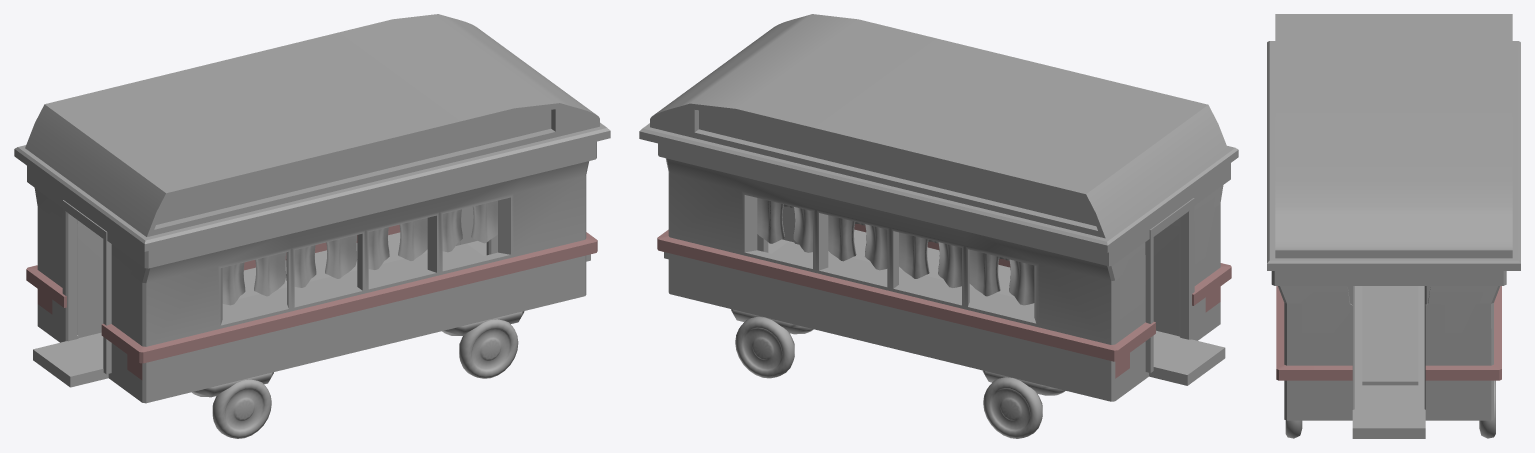
File: SM_Train_Car.fbx
3 renders of one model, left to right at view 1: azimuth 30°, elevation 25°; view 2: azimuth 150°, elevation 25°; view 3: azimuth 270°, elevation 25°, orthographic. The views are drawn at different scales.
Visible parts, largest first — view 1: SM_Train_Roof, SM_Train_Main, SM_Curtain, SM_Wheels, SM_Frames, SM_Carpet; view 2: SM_Train_Roof, SM_Train_Main, SM_Curtain, SM_Wheels, SM_Frames, SM_Carpet; view 3: SM_Train_Roof, SM_Train_Main, SM_Carpet, SM_Frames, SM_Wheels.
Part boxes in pixels (left/top/right/bottom): SM_Train_Roof: left=14, top=14, right=610, bottom=251; SM_Train_Main: left=26, top=141, right=597, bottom=403; SM_Curtain: left=222, top=200, right=497, bottom=305; SM_Wheels: left=192, top=311, right=524, bottom=438; SM_Frames: left=62, top=200, right=497, bottom=374; SM_Carpet: left=222, top=243, right=483, bottom=319; SM_Train_Roof: left=639, top=14, right=1238, bottom=252; SM_Train_Main: left=657, top=143, right=1231, bottom=401; SM_Curtain: left=757, top=198, right=1034, bottom=305; SM_Wheels: left=731, top=309, right=1065, bottom=438; SM_Frames: left=757, top=198, right=1194, bottom=372; SM_Carpet: left=772, top=242, right=1034, bottom=317; SM_Train_Roof: left=1267, top=14, right=1520, bottom=270; SM_Train_Main: left=1271, top=271, right=1506, bottom=438; SM_Carpet: left=1362, top=286, right=1418, bottom=385; SM_Frames: left=1347, top=286, right=1430, bottom=409; SM_Wheels: left=1285, top=380, right=1495, bottom=438.
Bounding box in the file's own units: 3491 × 1738 × 1514.
